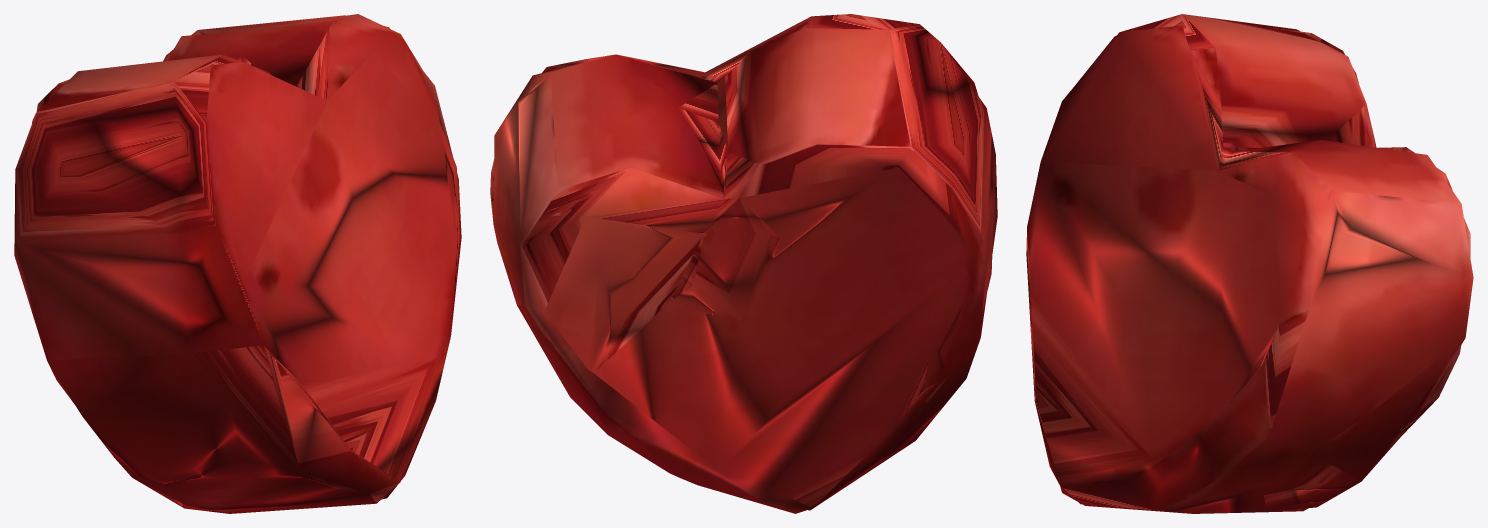
File: token-heart-lite.glb
The picture shows the model from 3 angles, left to right: view 1: azimuth 30°, elevation 25°; view 2: azimuth 150°, elevation 25°; view 3: azimuth 270°, elevation 25°; orthographic projection. The views are drawn at different scales.
Parts seen in each view (by area): view 1: geometry_0; view 2: geometry_0; view 3: geometry_0.
Boxes of the visible parts, x1,y1,x2,y2 form: geometry_0: (14, 14, 461, 513); geometry_0: (490, 14, 997, 513); geometry_0: (1026, 14, 1473, 513).
Size of the model in its own units: 0.8488 by 0.8341 by 0.7279.
Materials: 1 (1 with a texture image).
